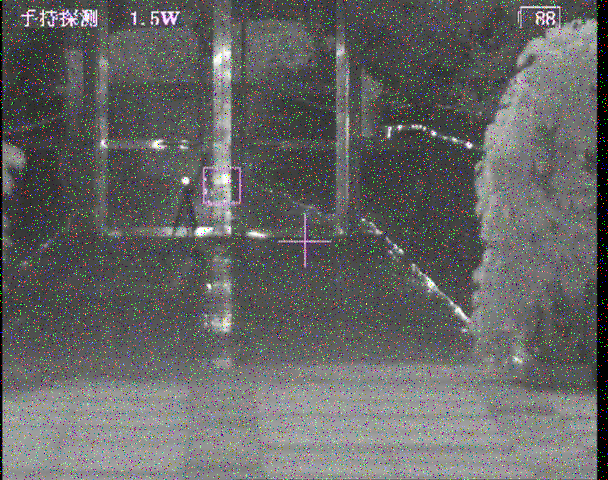my: (179, 176, 190, 187)
